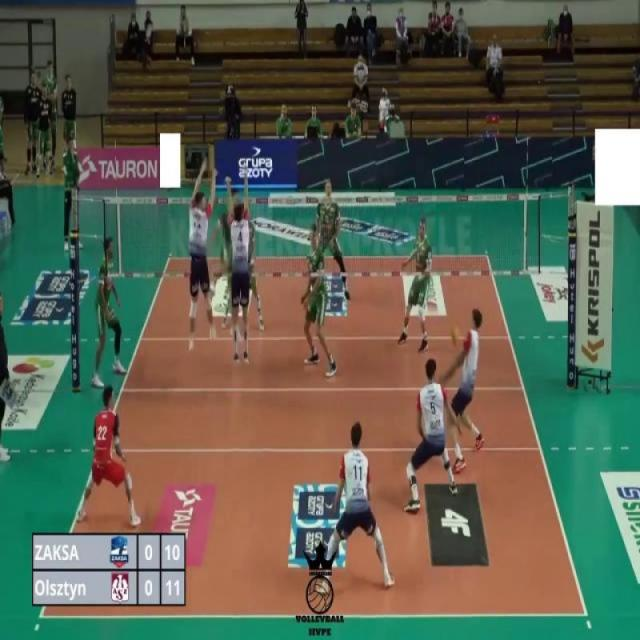volleyball: (450, 323, 461, 348)
